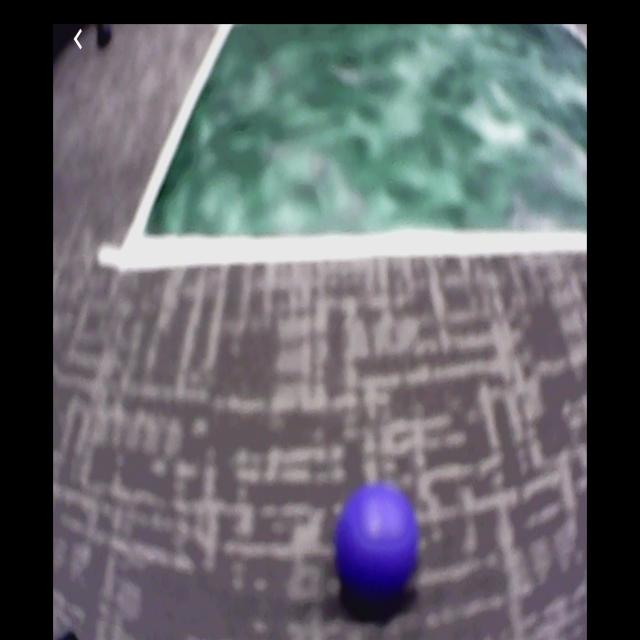ball: (338, 489, 417, 595)
